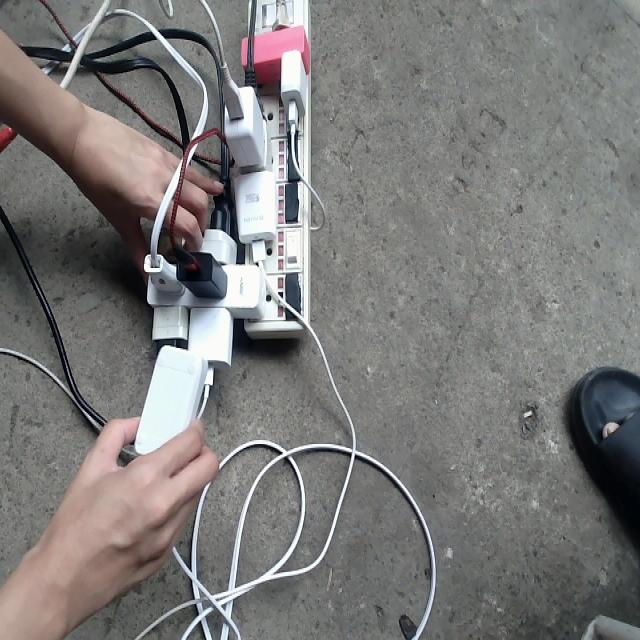-: (123, 0, 350, 367)
